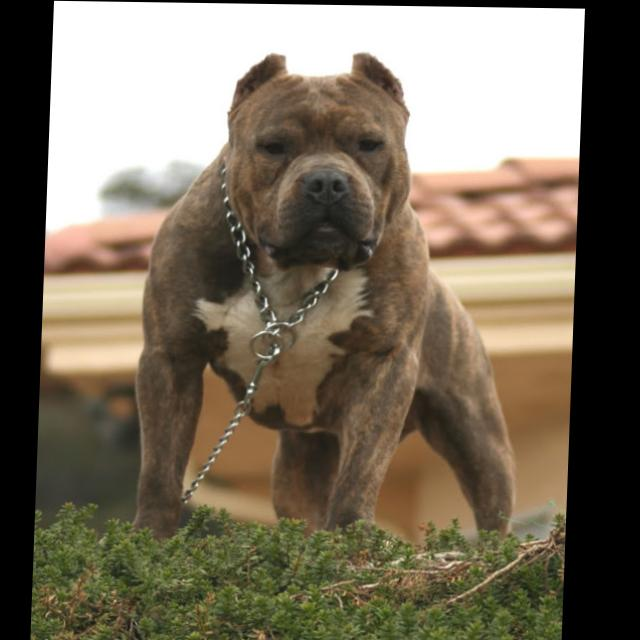am_pit_bull_terrier: (133, 47, 536, 549)
